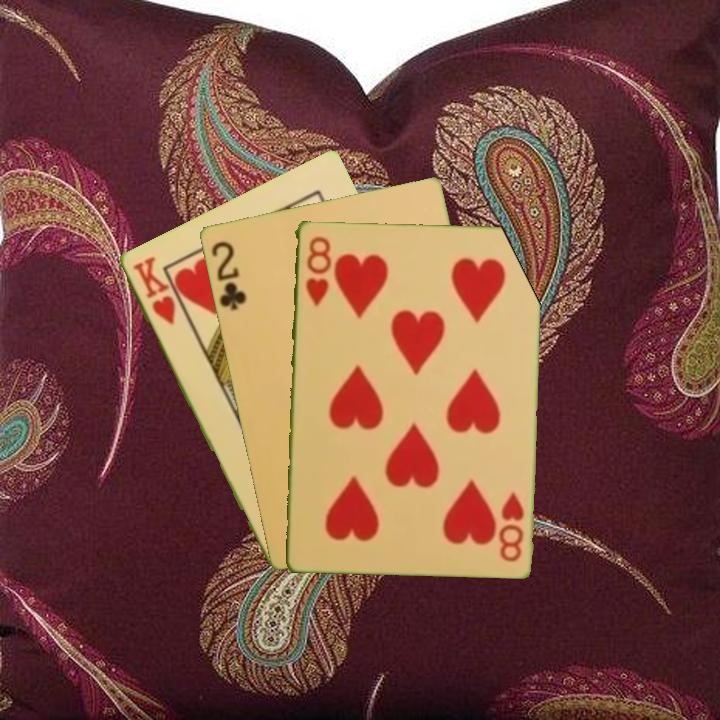2c: (207, 237, 249, 313)
8h: (495, 487, 527, 564), (302, 232, 332, 308)
Kh: (128, 253, 178, 328)
